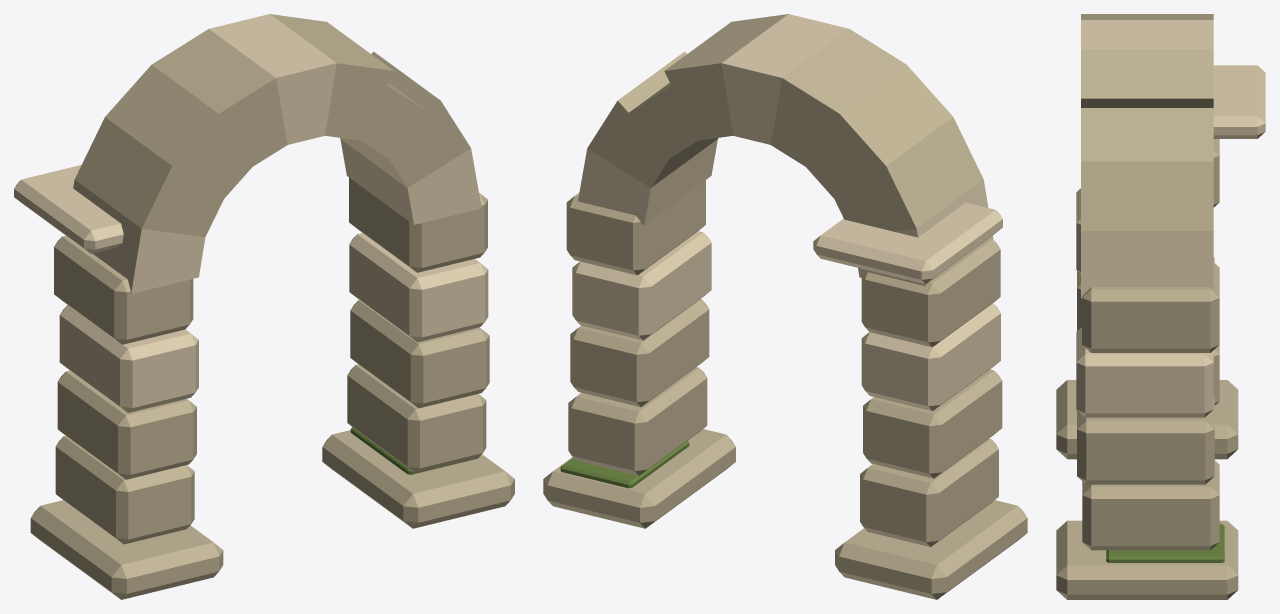
File: site-ruin-arch.glb
3 renders of one model, left to right at view 1: azimuth 30°, elevation 25°; view 2: azimuth 150°, elevation 25°; view 3: azimuth 270°, elevation 25°, orthographic.
Parts seen in each view (by area): view 1: Cube; view 2: Cube; view 3: Cube.
Boxes of the visible parts, x1,y1,x2,y2 form: Cube: [14, 14, 514, 599]; Cube: [543, 14, 1027, 599]; Cube: [1056, 14, 1265, 599].
Size of the model in its own units: 0.508 by 0.5727 by 0.23.
